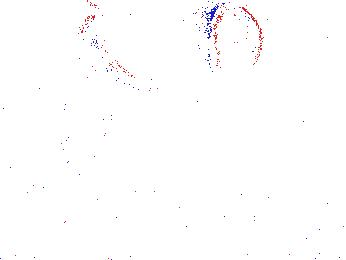moon jellyfish: (96, 1, 204, 90), (57, 60, 136, 178), (209, 3, 263, 81)
